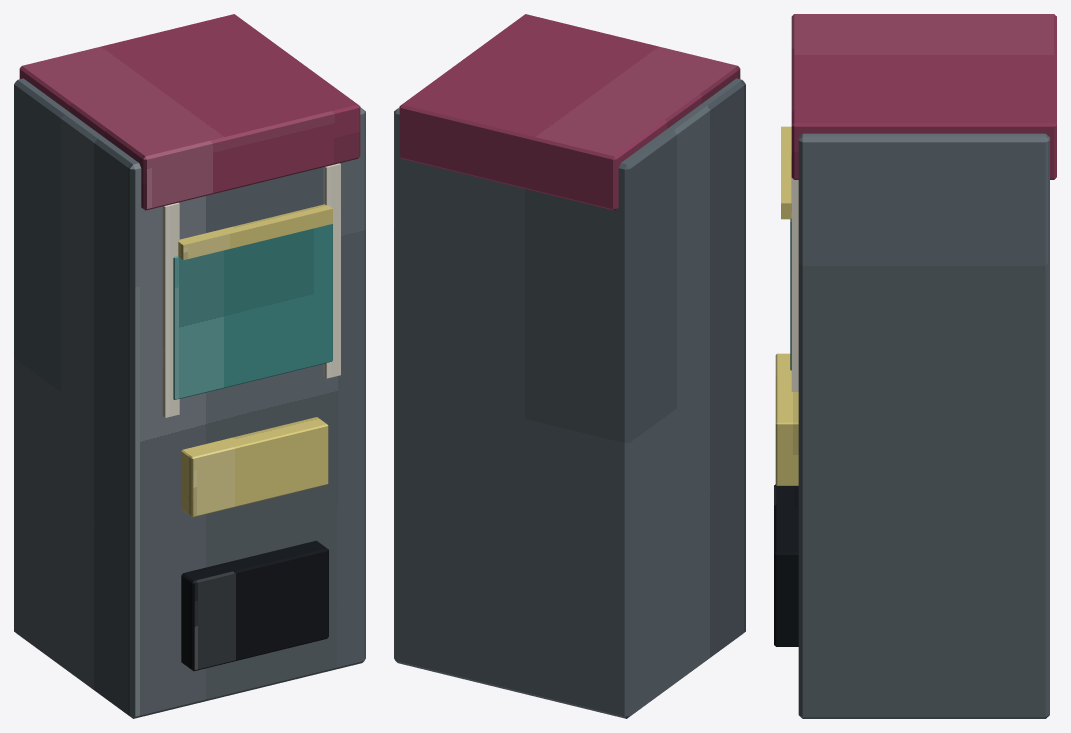
File: prize_claw_machine.glb
3 views of the same model, side by side, from view 1: azimuth 30°, elevation 25°; view 2: azimuth 150°, elevation 25°; view 3: azimuth 270°, elevation 25° (orthographic). The views are drawn at different scales.
Parts seen in each view (by area): view 1: MachineBody, Header, Display, CollectionBin, Control, ClawRail, GlassPost_-0.28, GlassPost_0.28; view 2: MachineBody, Header; view 3: MachineBody, Header, CollectionBin, Control, GlassPost_0.28, ClawRail.
Part boxes in pixels (x1,y1,x2,y2): MachineBody: [14, 78, 365, 718]; Header: [19, 14, 360, 210]; Display: [173, 224, 332, 399]; CollectionBin: [181, 540, 328, 671]; Control: [181, 417, 328, 517]; ClawRail: [178, 204, 332, 260]; GlassPost_-0.28: [162, 202, 179, 417]; GlassPost_0.28: [323, 163, 340, 378]; MachineBody: [394, 78, 745, 718]; Header: [399, 14, 740, 210]; MachineBody: [798, 133, 1049, 718]; Header: [791, 14, 1056, 179]; CollectionBin: [774, 484, 798, 646]; Control: [775, 353, 798, 485]; GlassPost_0.28: [791, 178, 798, 391]; ClawRail: [781, 126, 791, 219].
Bounding box in the file's own units: 0.82 × 1.87 × 0.81.
Materials: 1 (1 with a texture image).
